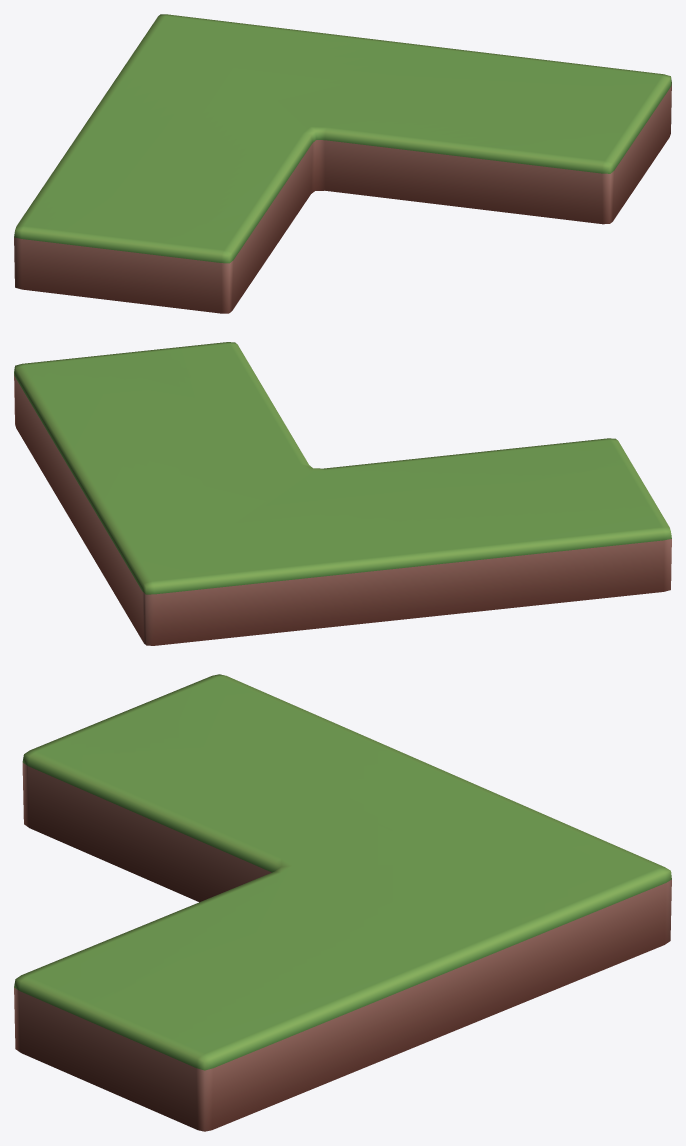
File: Forest_V.fbx
3 views of the same model, one above another, from view 1: azimuth 30°, elevation 25°; view 2: azimuth 150°, elevation 25°; view 3: azimuth 270°, elevation 25° (orthographic). The views are drawn at different scales.
Parts seen in each view (by area): view 1: Plane.061; view 2: Plane.061; view 3: Plane.061.
Boxes of the visible parts, x1,y1,x2,y2 form: Plane.061: (14,14,671,313); Plane.061: (14,342,671,645); Plane.061: (14,674,671,1131).
Size of the model in its own units: 643 by 57.23 by 460.
